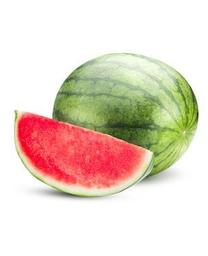watermelon: (52, 52, 199, 181), (9, 107, 155, 198)
